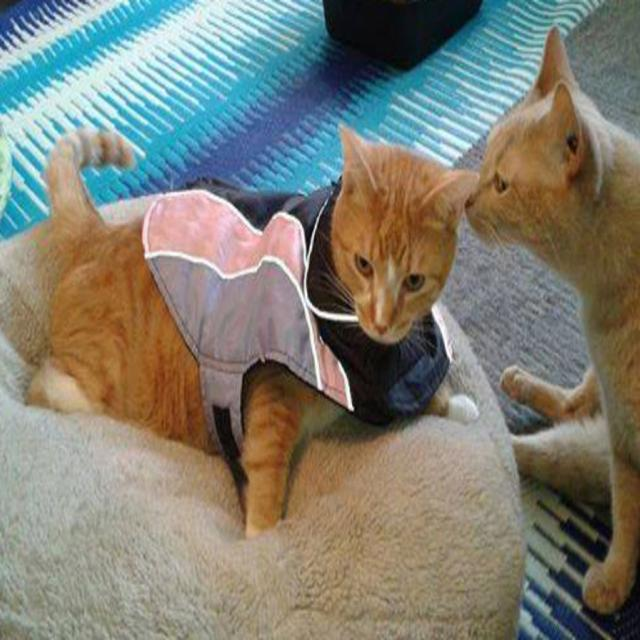Cat: (24, 127, 480, 540), (463, 21, 639, 614)
